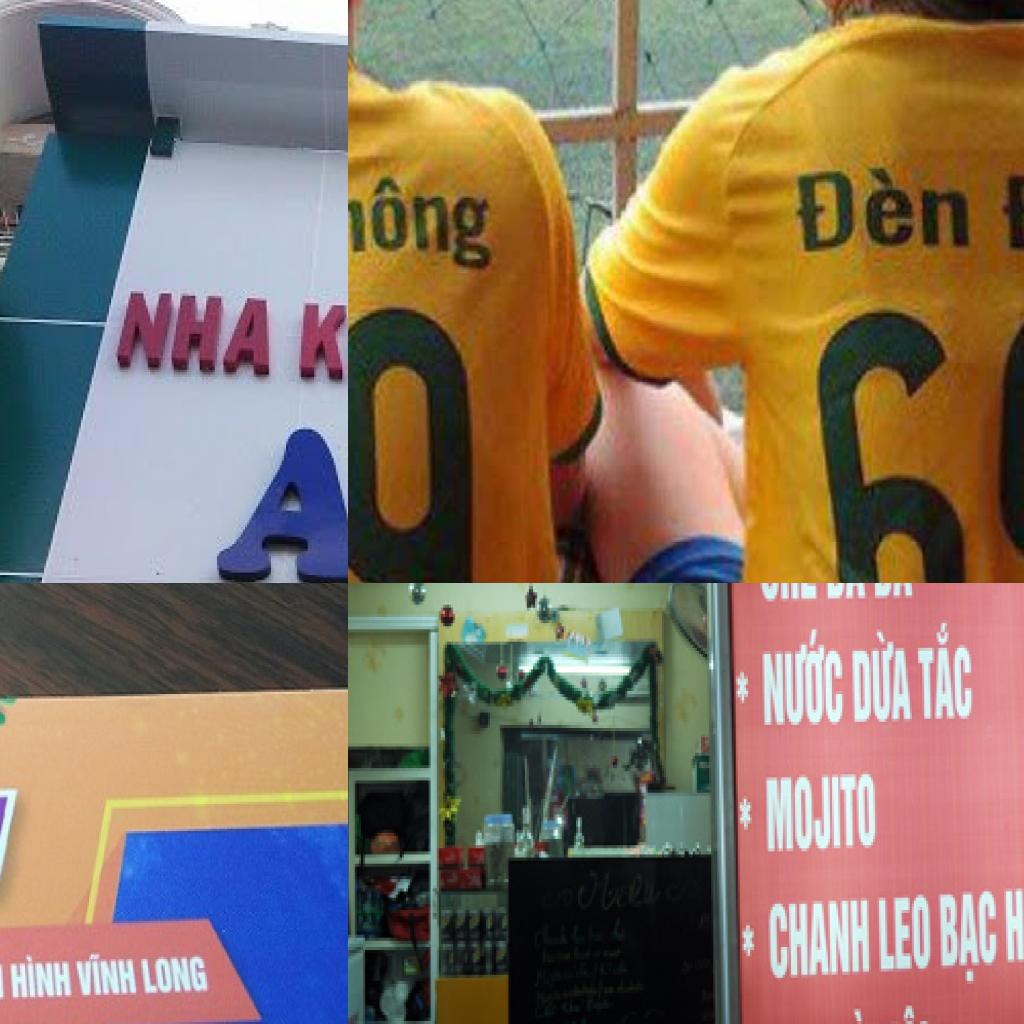text: (786, 300, 979, 583), (197, 412, 348, 583), (782, 160, 970, 262), (106, 282, 280, 384), (348, 172, 496, 284), (760, 771, 882, 855), (765, 891, 877, 981), (756, 620, 846, 731), (846, 623, 916, 725), (916, 620, 975, 725), (941, 885, 1000, 990), (292, 293, 348, 400), (875, 888, 936, 981), (72, 950, 140, 1002), (8, 952, 72, 1002), (993, 159, 1024, 262), (1001, 863, 1024, 971), (754, 583, 819, 604), (826, 999, 871, 1024), (738, 919, 758, 969), (736, 790, 756, 836), (824, 583, 867, 604), (869, 583, 916, 601), (734, 670, 754, 706)
